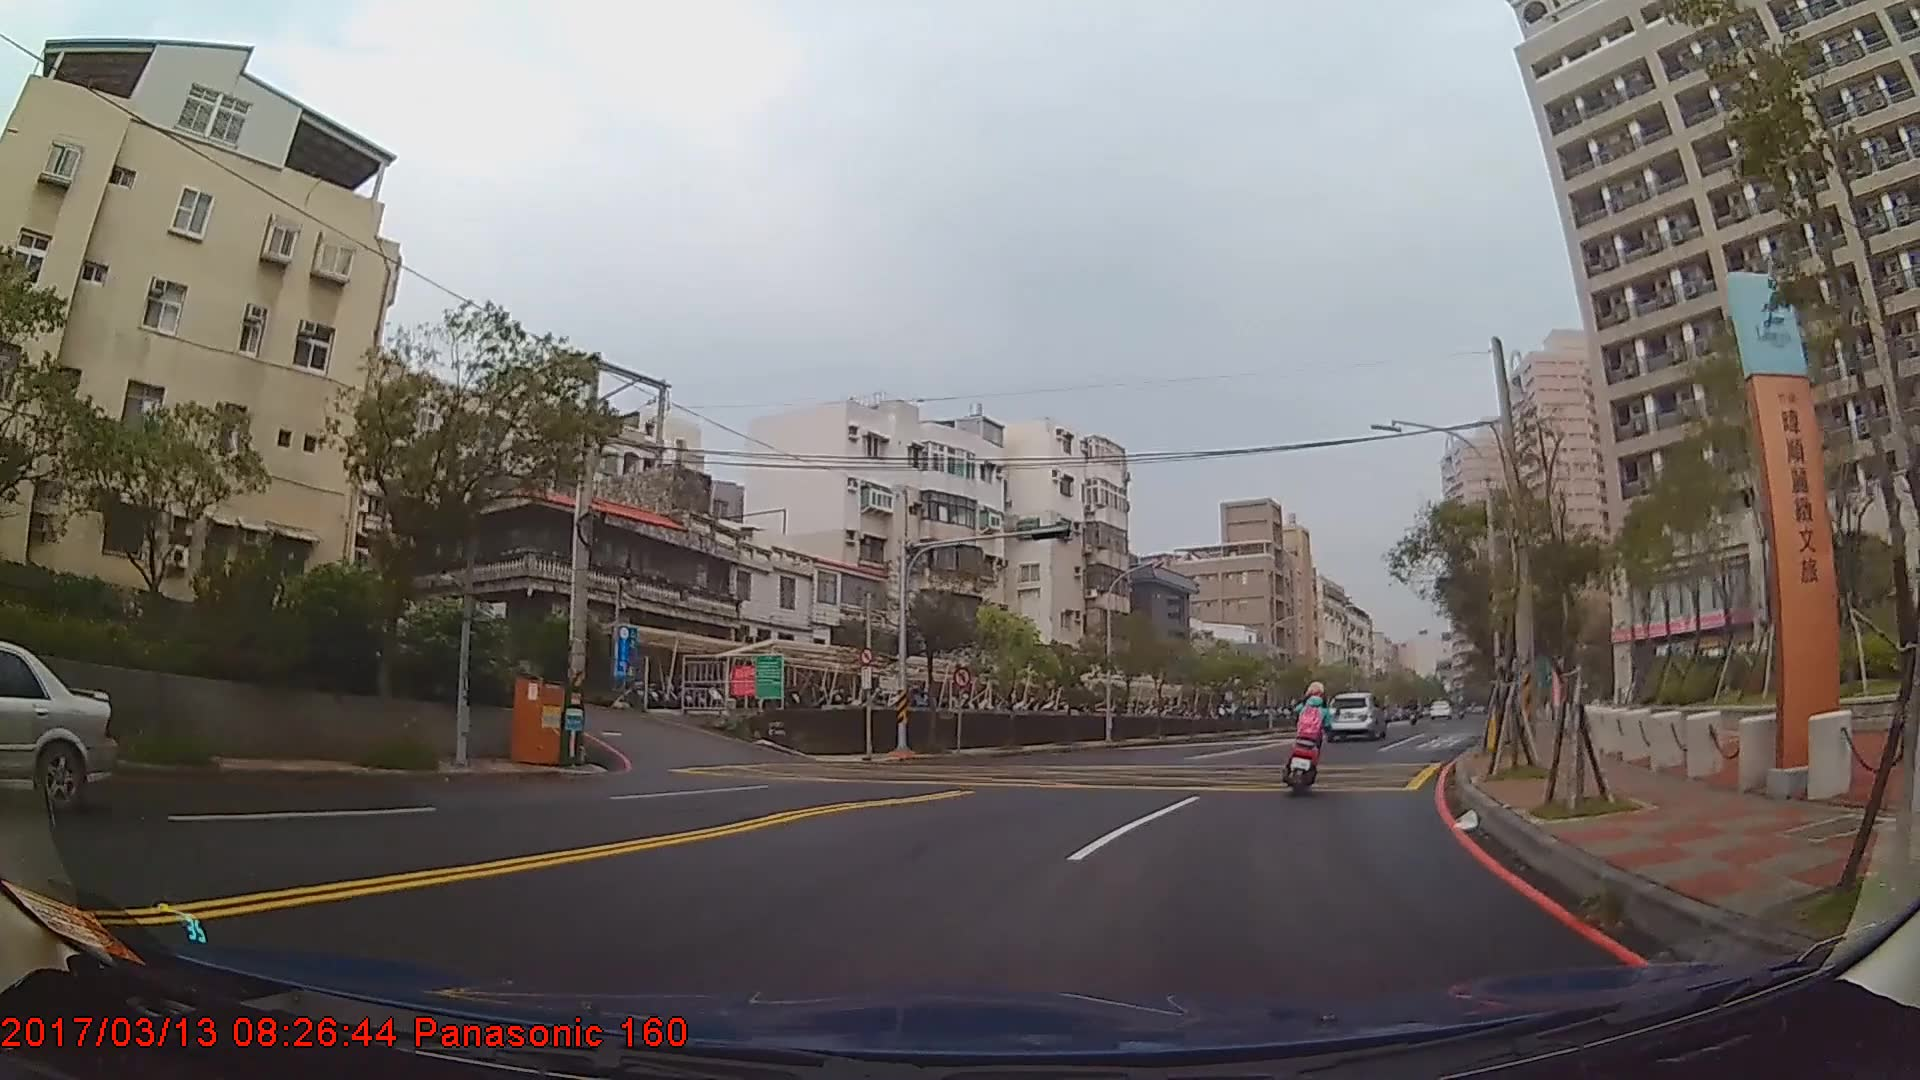rider: (1284, 678, 1335, 790)
vehicle: (0, 641, 117, 814), (1324, 690, 1390, 739)
